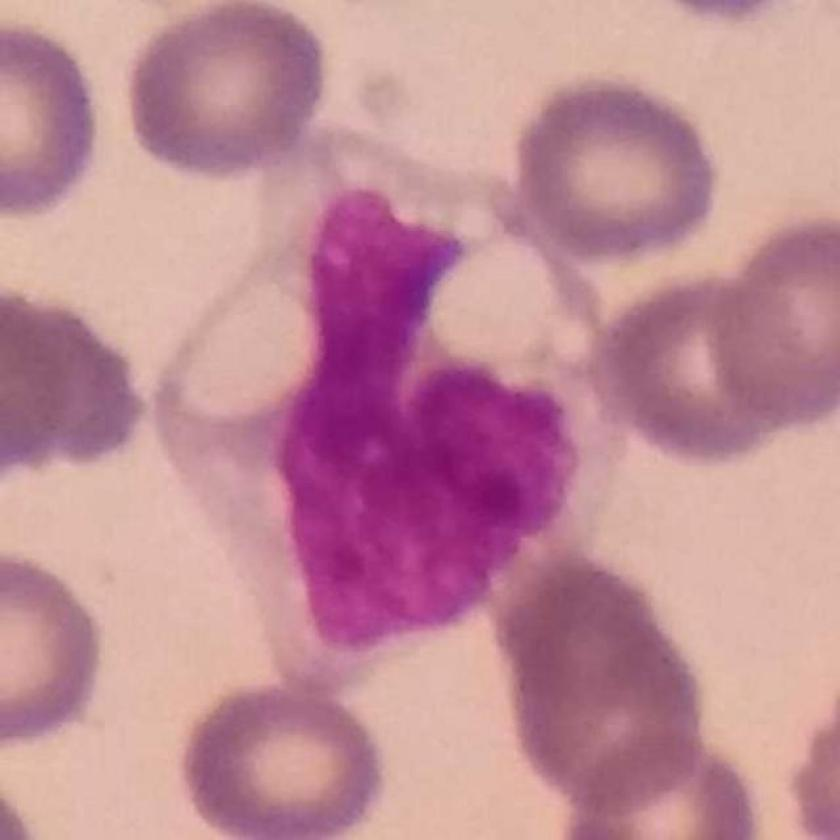monocyte: (157, 119, 655, 703)
